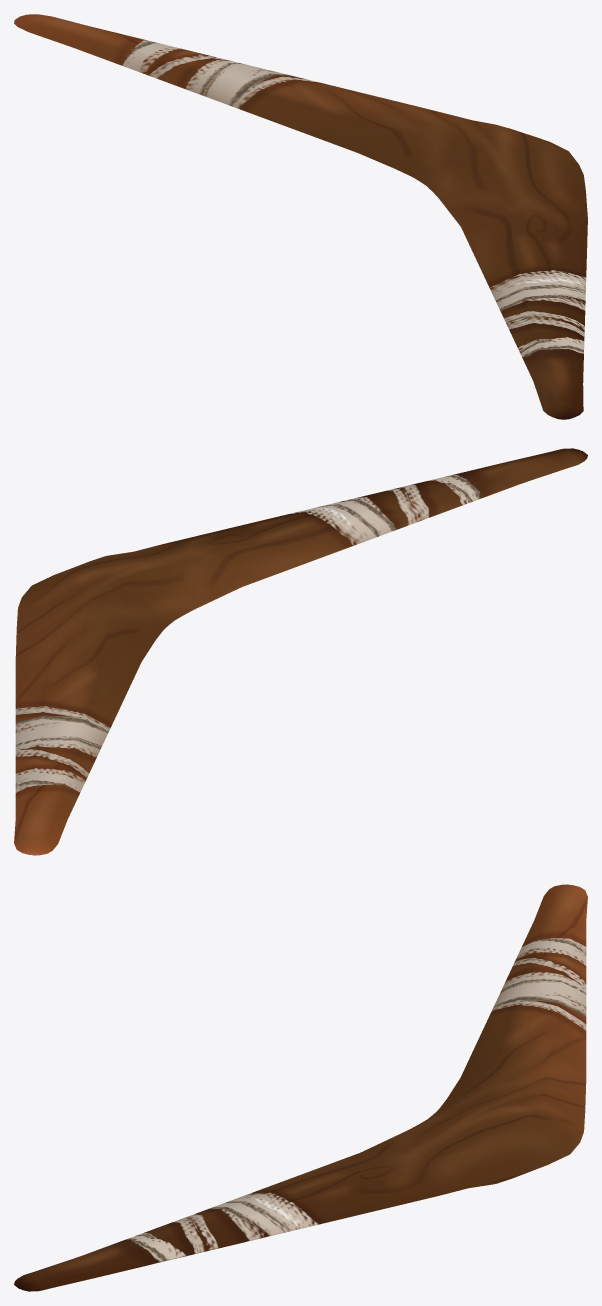
Rendered from boomerang 0905.fbx.
The picture shows the model from 3 angles, top to bottom: view 1: azimuth 30°, elevation 25°; view 2: azimuth 150°, elevation 25°; view 3: azimuth 330°, elevation 25°; orthographic projection.
Visible parts, largest first — view 1: boomerang3; view 2: boomerang3; view 3: boomerang3.
Boxes of the visible parts, x1,y1,x2,y2 form: boomerang3: (14, 14, 587, 419); boomerang3: (14, 448, 587, 855); boomerang3: (14, 884, 587, 1291).
Bounding box in the file's own units: 26.48 × 5.13 × 88.13.
